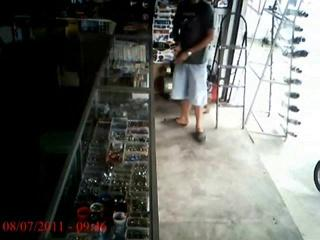Normal: (167, 0, 214, 143)
